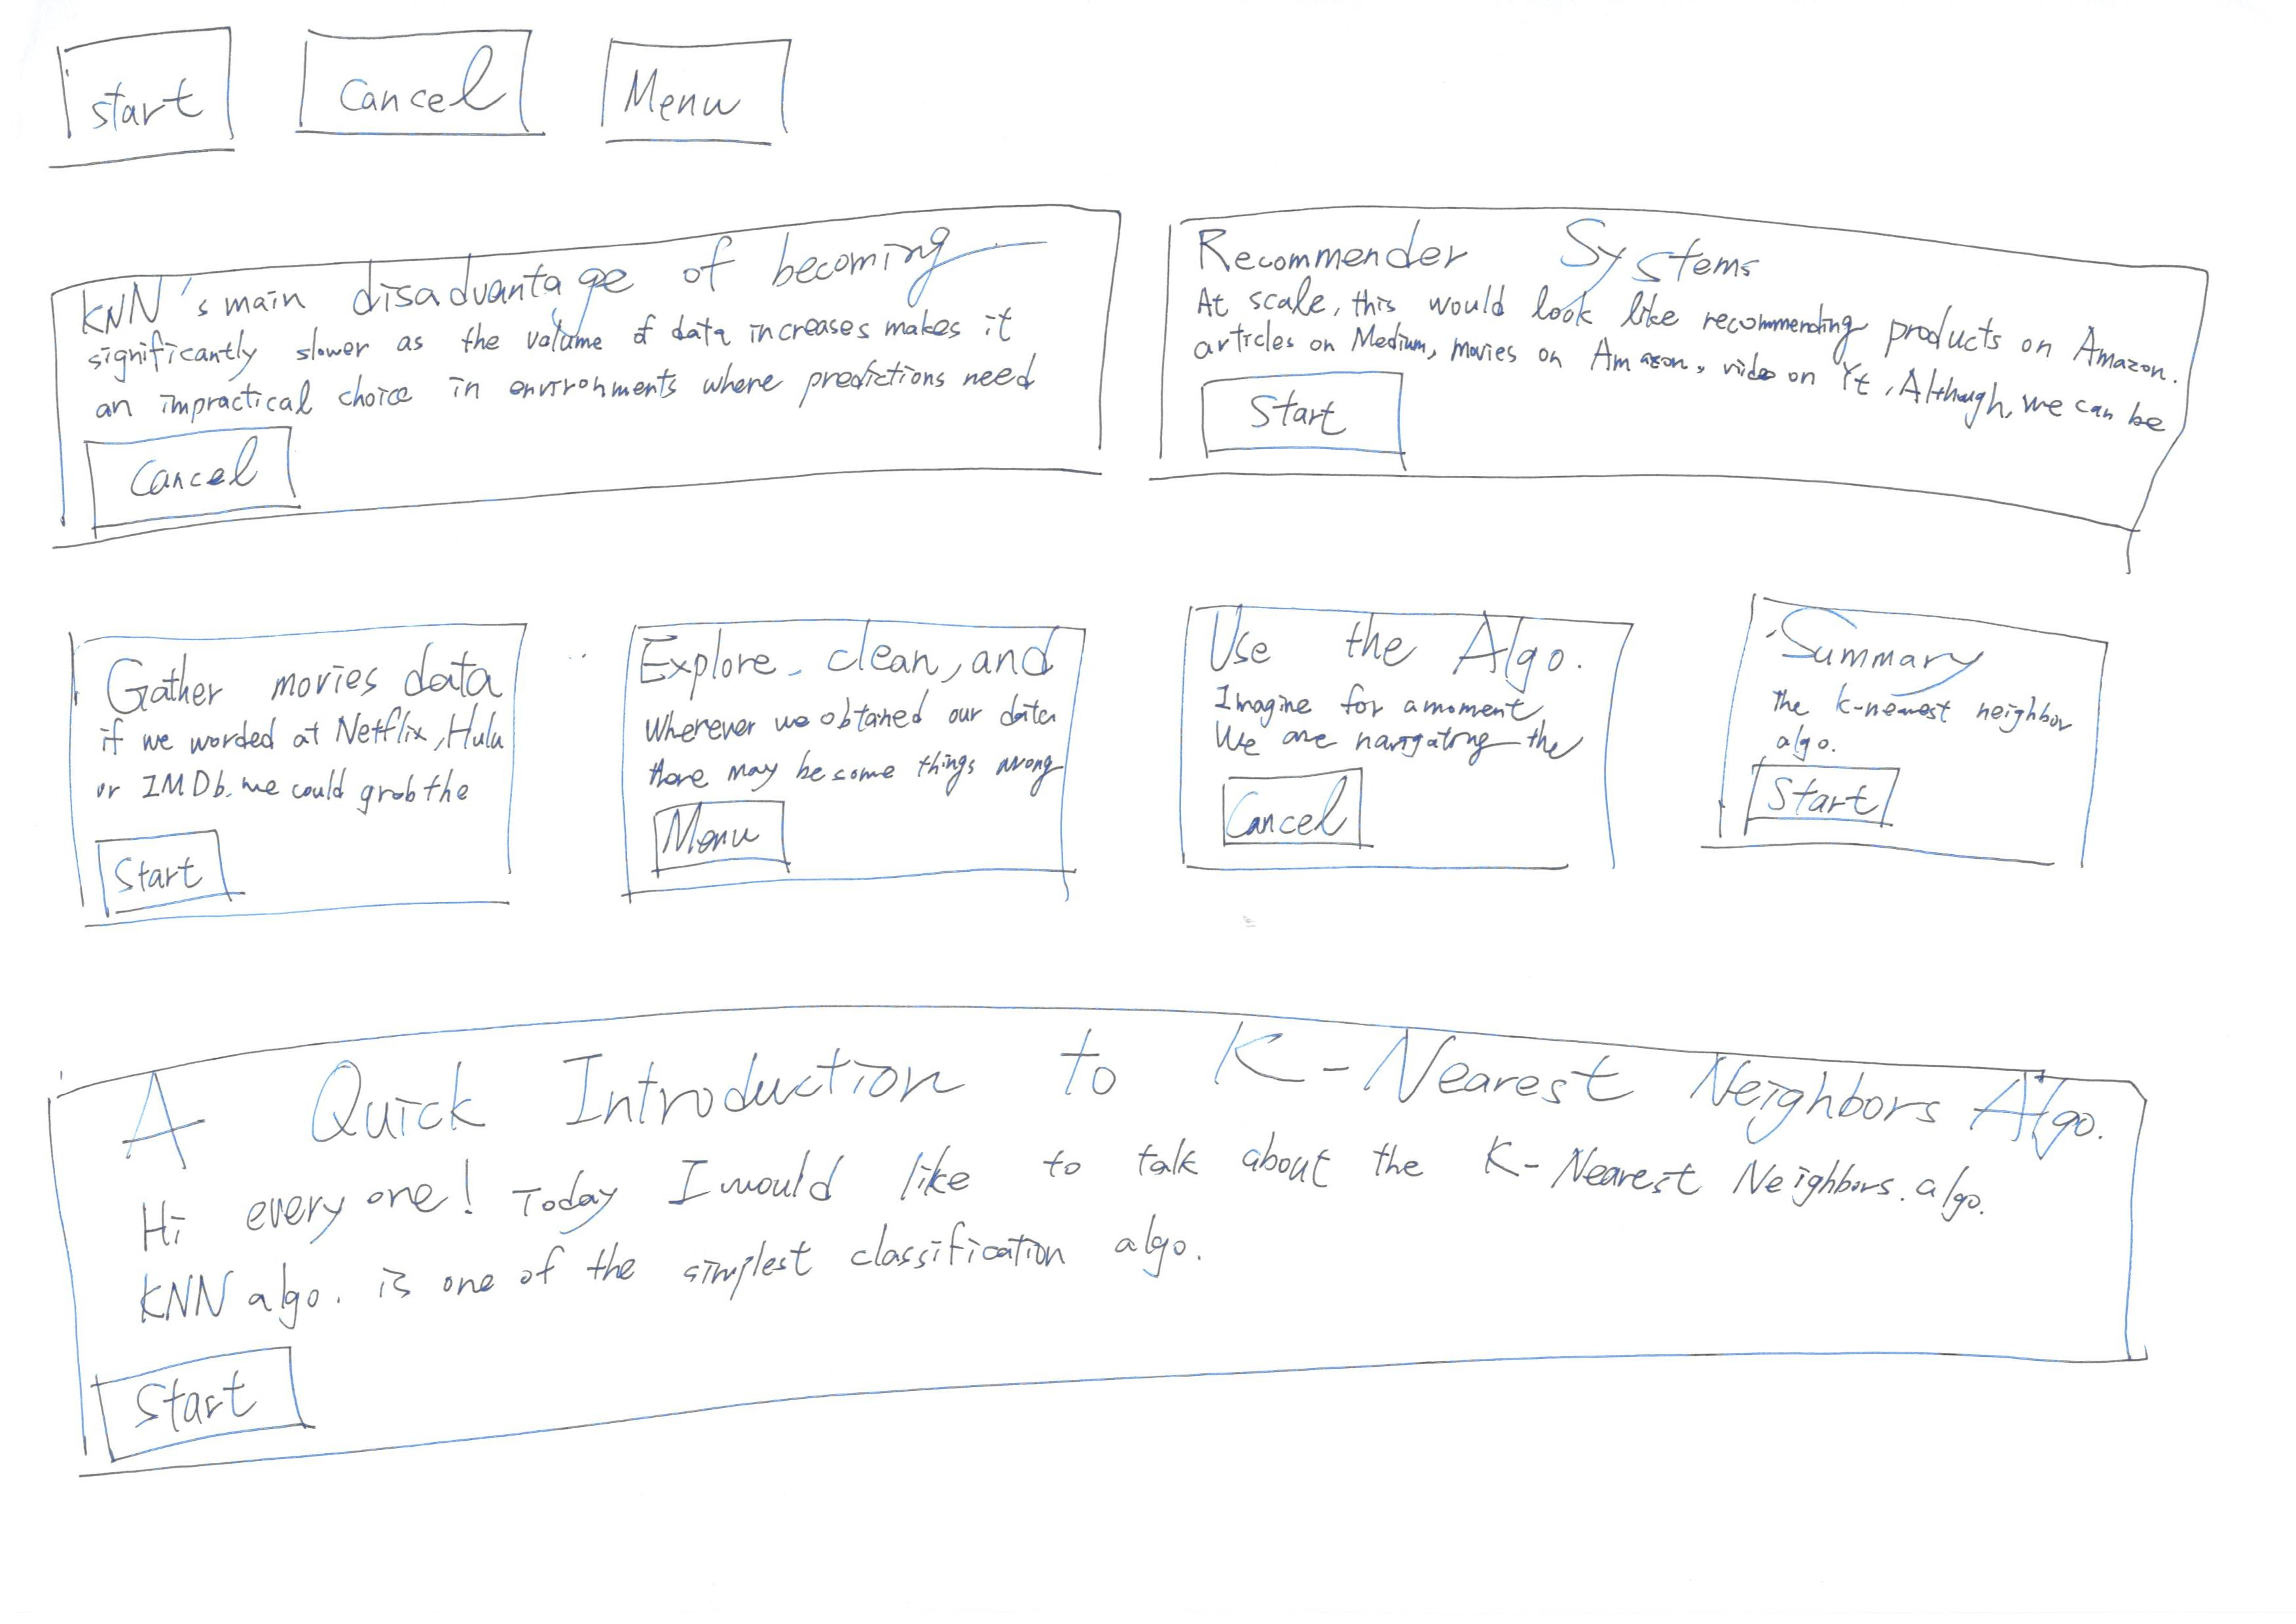cancel: (267, 4, 541, 170), (67, 411, 353, 548), (1188, 759, 1392, 886)
double: (1132, 156, 2234, 569), (33, 176, 1150, 568)
menu: (577, 19, 832, 170), (638, 784, 817, 898)
quadruple: (1686, 564, 2234, 951), (587, 578, 1136, 963), (1157, 569, 1705, 954), (23, 594, 563, 975)
row: (16, 981, 2296, 1601), (16, 550, 2296, 1002), (16, 156, 2296, 554), (11, 0, 2291, 200)
single: (16, 982, 2242, 1489)
small-title: (84, 1026, 2104, 1172), (70, 213, 1055, 406), (1201, 204, 1776, 288), (1202, 605, 1588, 689), (638, 626, 1055, 700), (107, 634, 485, 708), (1755, 615, 1985, 707)
start: (81, 1332, 353, 1487), (35, 5, 262, 178), (1181, 352, 1438, 489), (72, 808, 258, 937), (1726, 750, 1913, 847)
text: (130, 1134, 1995, 1316), (1201, 272, 2176, 431), (650, 703, 1062, 789), (105, 710, 490, 800), (1751, 682, 2067, 747), (1227, 692, 1535, 759)
